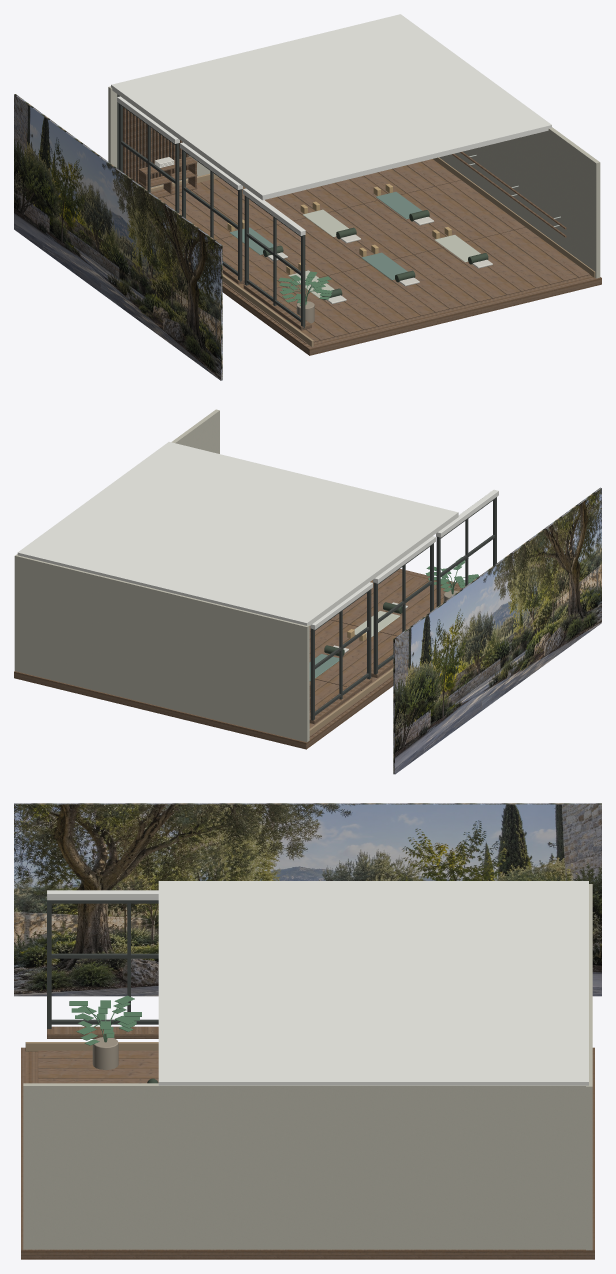
File: balance-studio.glb
The picture shows the model from 3 angles, top to bottom: view 1: azimuth 30°, elevation 25°; view 2: azimuth 150°, elevation 25°; view 3: azimuth 270°, elevation 25°; orthographic projection. The views are drawn at different scales.
Parts seen in each view (by area): view 1: Flat plaster ceiling.009, Courtyard panorama.003, Right plaster wall.009, Balance studio | continuous structural floor.004, Oak floor skirting.019, Oak plank 07-0.008, Oak plank 12-0.008, Oak plank 06-0.008, Oak plank 12-1.008, Oak plank 13-0.008, Oak plank 17-1.008, Oak plank 18-0.008 (+40 smaller); view 2: Flat plaster ceiling.009, Rear plaster wall.009, Courtyard panorama.003, Balance studio | continuous structural floor.004, Right plaster wall.009, Oak plank 06-0.008, Oak plank 03-1.008, Oak plank 02-1.008, Oak plank 03-0.008, Oak plank 05-0.008, Oak floor skirting.018, Window 3 sill.009 (+3 smaller); view 3: Right plaster wall.009, Flat plaster ceiling.009, Courtyard panorama.003, Balance studio | continuous structural floor.004, Rear plaster wall.009, Oak plank 02-0.008, Window 1 top lintel.009, Window 1 sill.009, Oak plank 01-0.008, Oak floor skirting.018, Oak plank 00-0.008, Ceramic planter.013 (+3 smaller).
Boxes of the visible parts, x1=… form: Flat plaster ceiling.009: x1=111, y1=14, x2=551, y2=200; Courtyard panorama.003: x1=14, y1=94, x2=222, y2=380; Right plaster wall.009: x1=439, y1=127, x2=600, y2=278; Balance studio | continuous structural floor.004: x1=222, y1=275, x2=601, y2=355; Oak floor skirting.019: x1=433, y1=157, x2=595, y2=277; Oak plank 07-0.008: x1=343, y1=268, x2=420, y2=319; Oak plank 12-0.008: x1=414, y1=251, x2=492, y2=301; Oak plank 06-0.008: x1=328, y1=272, x2=406, y2=322; Oak plank 12-1.008: x1=350, y1=204, x2=427, y2=254; Oak plank 13-0.008: x1=429, y1=248, x2=506, y2=298; Oak plank 17-1.008: x1=422, y1=186, x2=499, y2=237; Oak plank 18-0.008: x1=500, y1=230, x2=578, y2=280; Flat plaster ceiling.009: x1=17, y1=442, x2=458, y2=625; Rear plaster wall.009: x1=14, y1=554, x2=309, y2=742; Courtyard panorama.003: x1=393, y1=487, x2=601, y2=774; Balance studio | continuous structural floor.004: x1=14, y1=569, x2=465, y2=749; Right plaster wall.009: x1=15, y1=409, x2=219, y2=671; Oak plank 06-0.008: x1=335, y1=574, x2=412, y2=624; Oak plank 03-1.008: x1=315, y1=632, x2=391, y2=682; Oak plank 02-1.008: x1=328, y1=635, x2=396, y2=684; Oak plank 03-0.008: x1=379, y1=584, x2=455, y2=634; Oak plank 05-0.008: x1=349, y1=577, x2=427, y2=626; Oak floor skirting.018: x1=309, y1=668, x2=393, y2=735; Window 3 sill.009: x1=309, y1=676, x2=372, y2=724; Right plaster wall.009: x1=23, y1=1083, x2=585, y2=1249; Flat plaster ceiling.009: x1=158, y1=881, x2=588, y2=1085; Courtyard panorama.003: x1=14, y1=803, x2=601, y2=996; Balance studio | continuous structural floor.004: x1=21, y1=1047, x2=594, y2=1259; Rear plaster wall.009: x1=586, y1=884, x2=592, y2=1250; Oak plank 02-0.008: x1=38, y1=1068, x2=158, y2=1078; Window 1 top lintel.009: x1=47, y1=890, x2=158, y2=900; Window 1 sill.009: x1=47, y1=1026, x2=158, y2=1038; Oak plank 01-0.008: x1=38, y1=1058, x2=158, y2=1068; Oak floor skirting.018: x1=25, y1=1042, x2=158, y2=1051; Oak plank 00-0.008: x1=38, y1=1050, x2=158, y2=1058; Ceramic planter.013: x1=92, y1=1037, x2=118, y2=1069.
Size of the model in its own units: 13.38 by 4.5 by 12.5.
17 materials, 5 textured.
